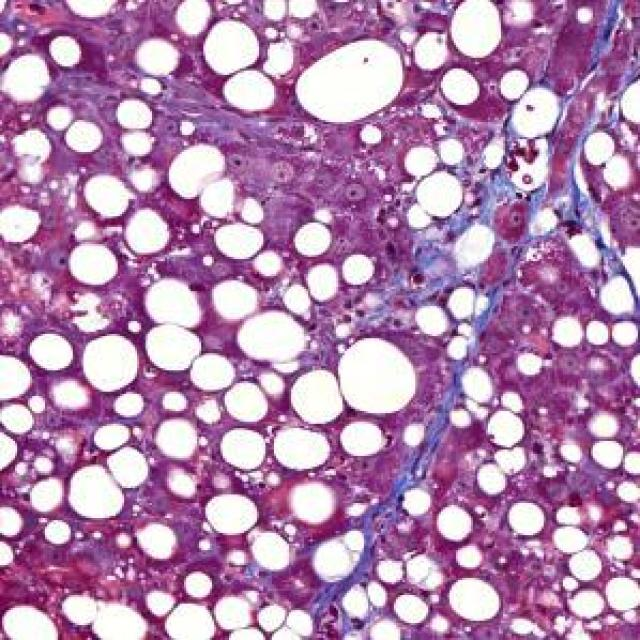fibrosis: (467, 165, 595, 242)
